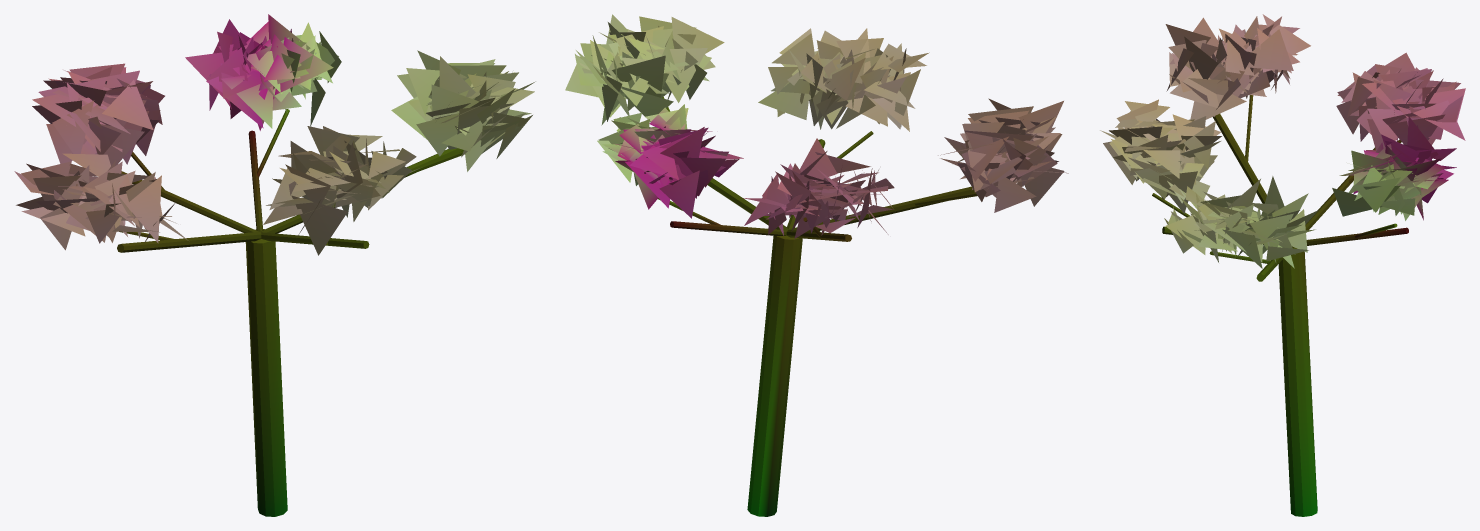
The model's file is ecological_savanna_young_01.glb.
The picture shows the model from 3 angles, left to right: view 1: azimuth 30°, elevation 25°; view 2: azimuth 150°, elevation 25°; view 3: azimuth 270°, elevation 25°; orthographic projection. The views are drawn at different scales.
Parts seen in each view (by area): view 1: ecological_savanna_young_01; view 2: ecological_savanna_young_01; view 3: ecological_savanna_young_01.
Part boxes in pixels (<box>): ecological_savanna_young_01: <box>14,14,535,516</box>; ecological_savanna_young_01: <box>565,14,1068,516</box>; ecological_savanna_young_01: <box>1100,14,1465,516</box>.
Bounding box in the file's own units: 11 × 9.22 × 7.7.
